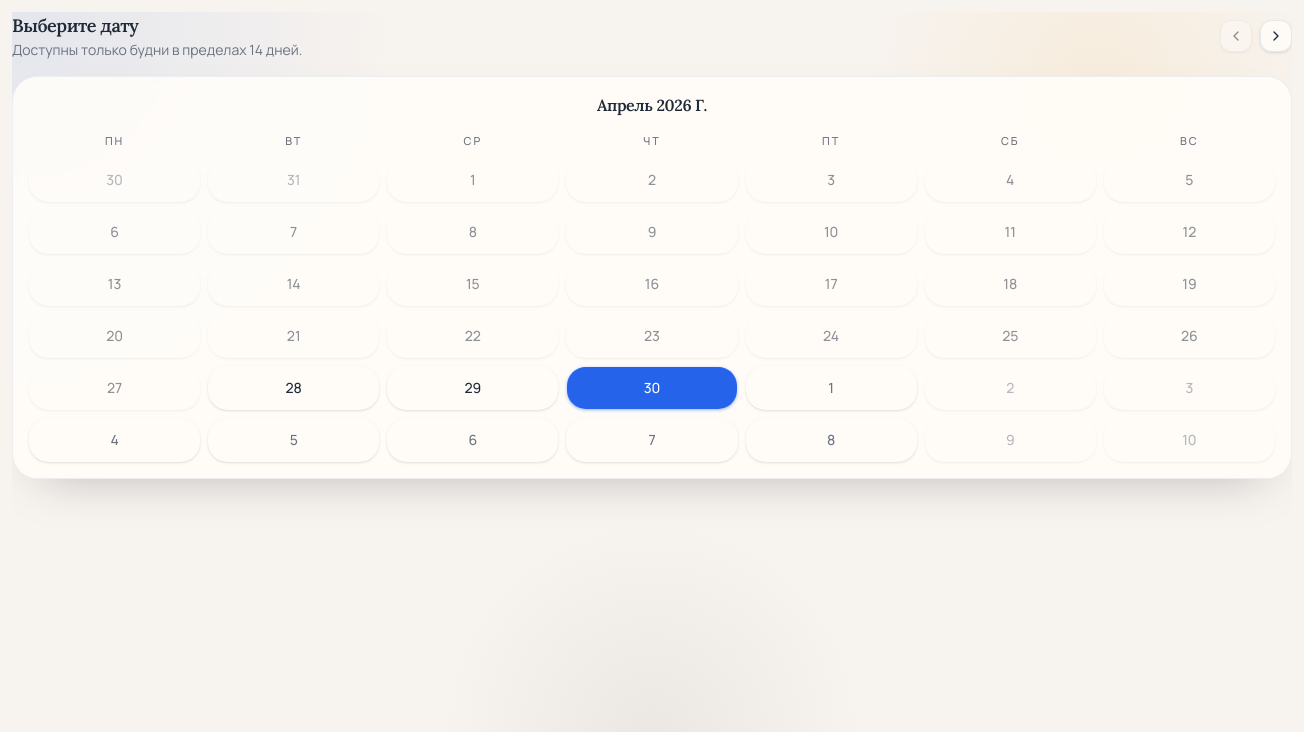
Test: CalendarGrid › позволяет перейти к следующему месяцу, если в нем есть доступные даты
Click the button named "Следующий месяц" at (1276, 36), box [1260,20,1292,52]
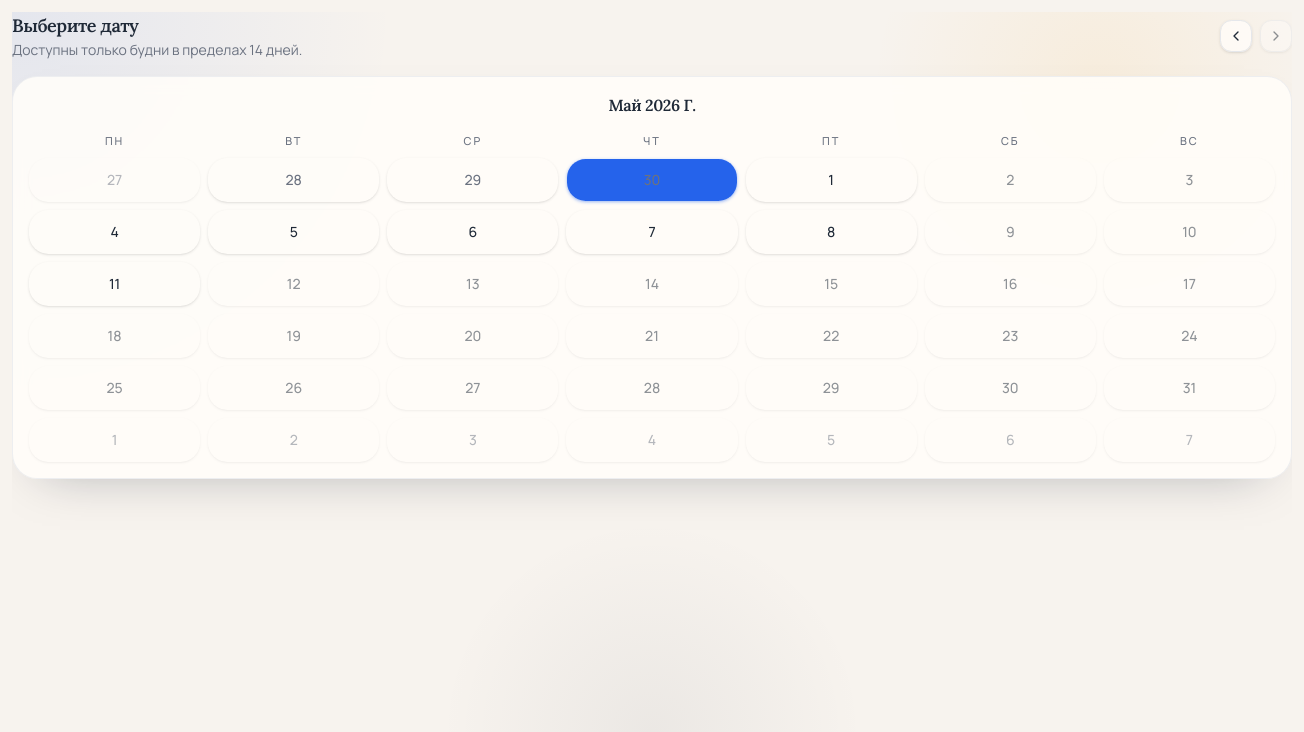
Result: the heading "май 2026 г." is shown at [608,95,696,115]
